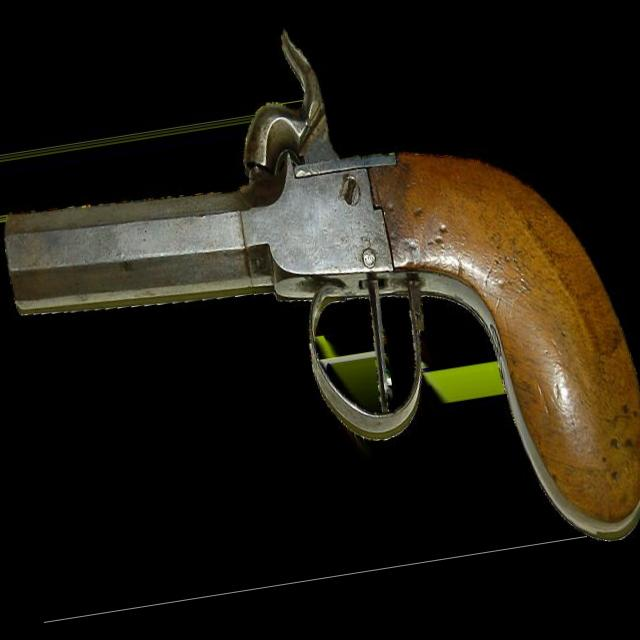Gun: (5, 36, 640, 539)
